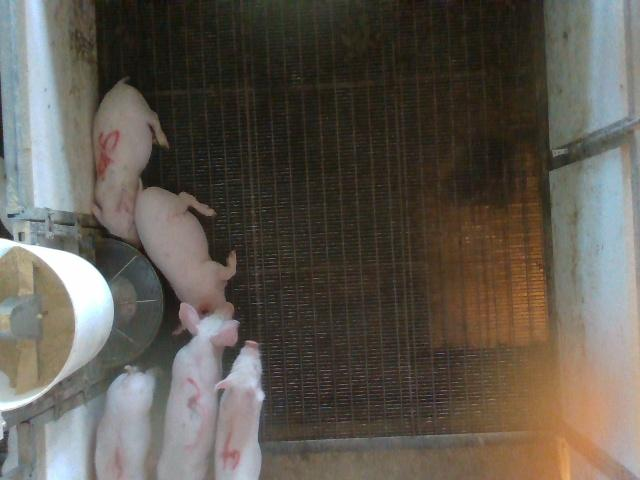pig-1: (96, 366, 155, 478)
pig-3: (158, 302, 239, 478)
pig-4: (215, 341, 265, 478)
pig-5: (92, 79, 168, 245)
